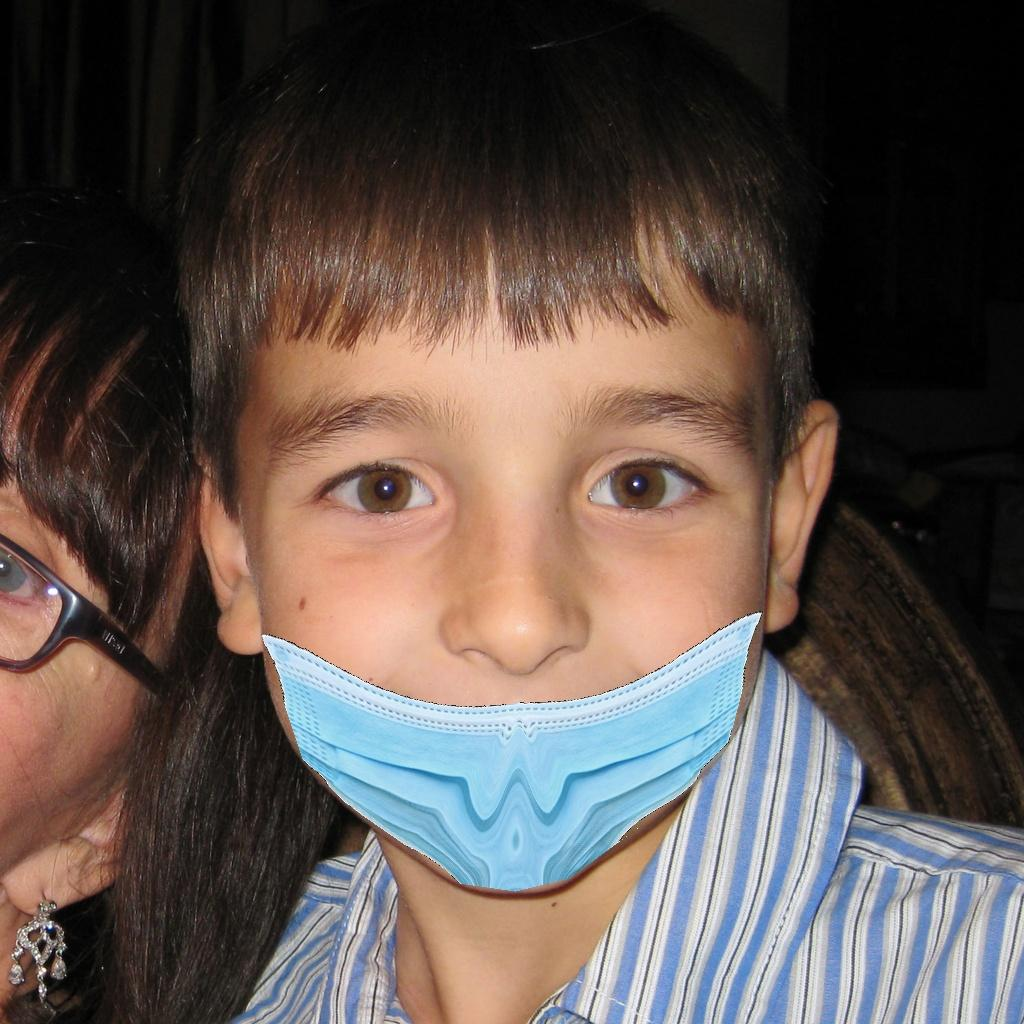Máscara Incorreta: (189, 158, 829, 882)
